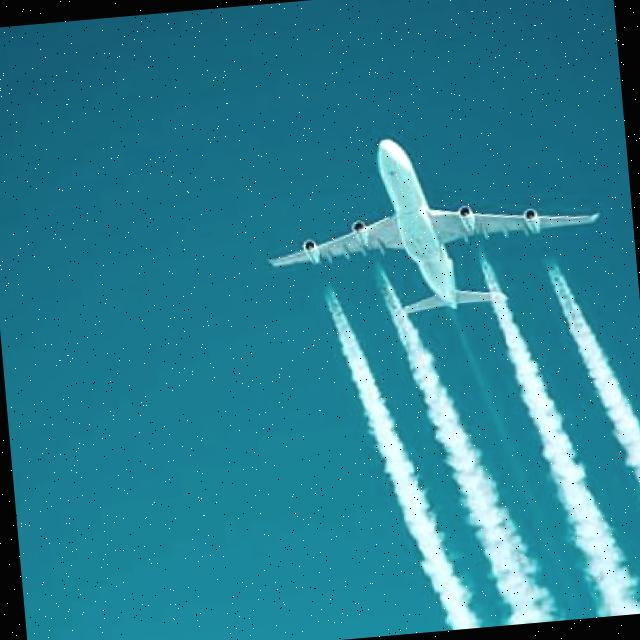Ct: (260, 91, 640, 640)
